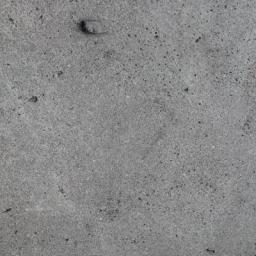FOD: (78, 19, 112, 37)
